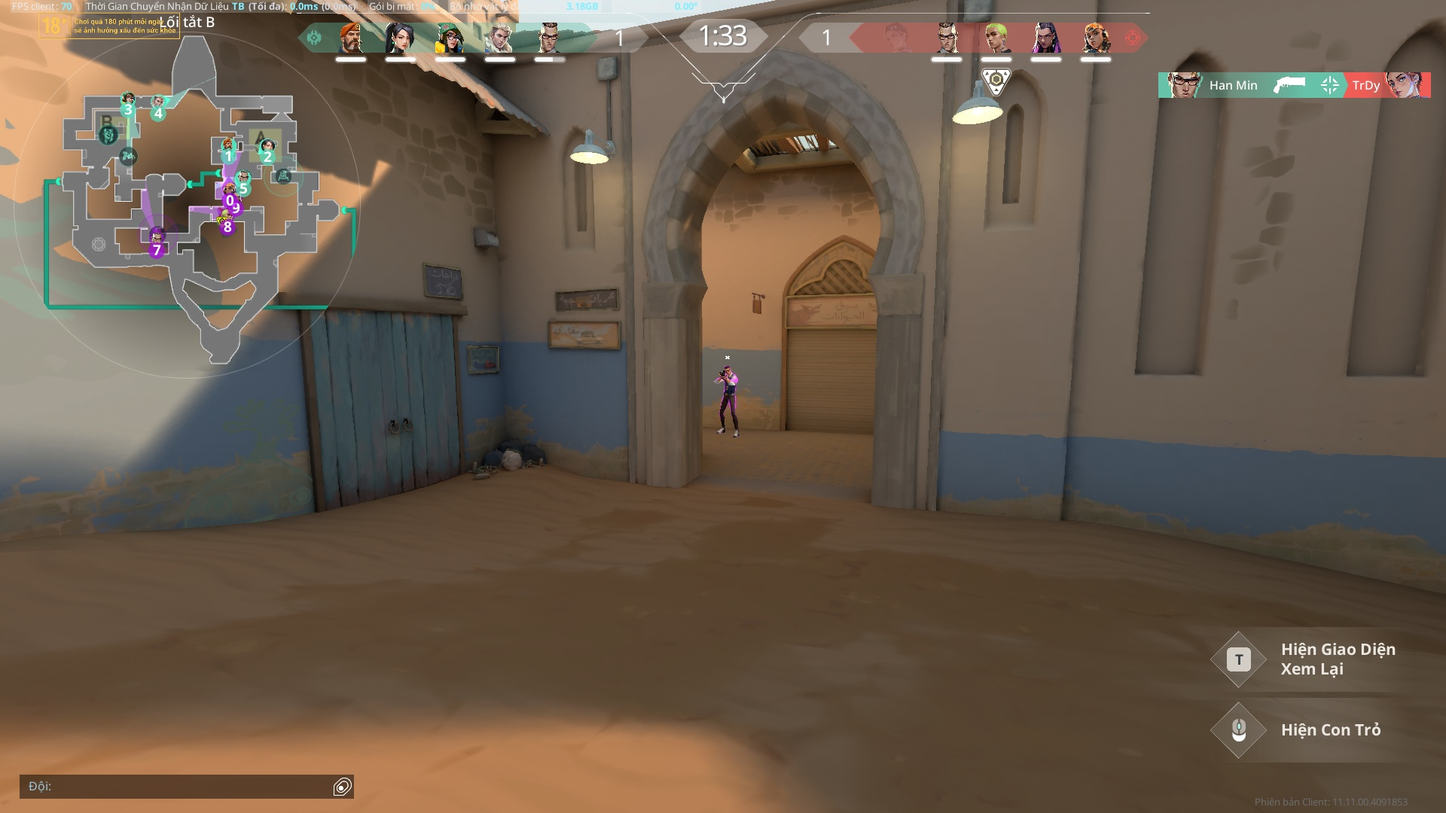body: (720, 374, 740, 393)
head: (723, 364, 733, 376)
